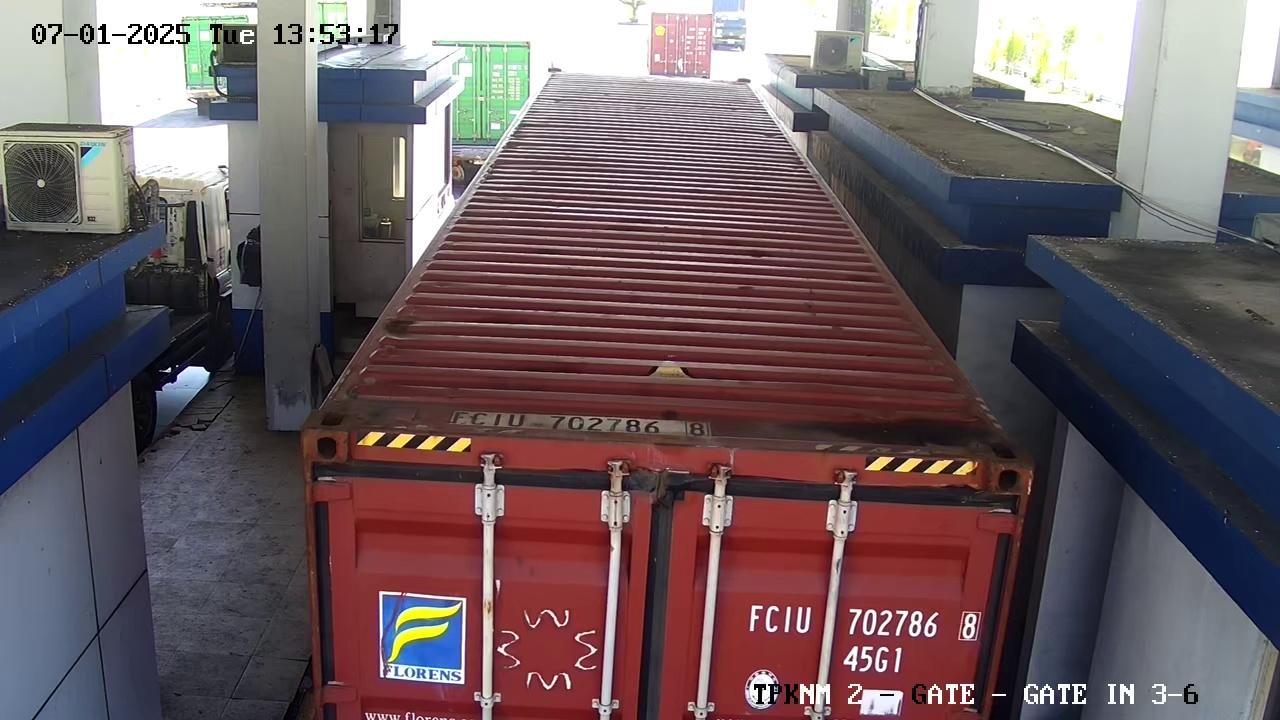Container_ID: (418, 401, 715, 456), (740, 593, 990, 644)
